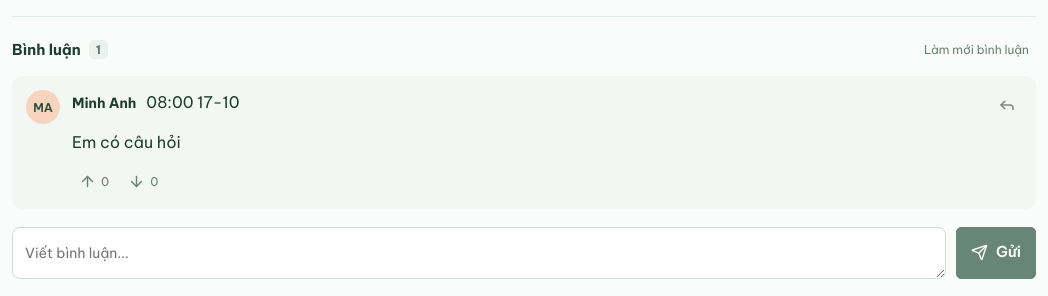
does not overwrite a new vote with an older refresh response
Expected: the text "Em có câu hỏi" is shown, [72,132,181,152]
Click the button "Làm mới bình luận" at (976, 50), box [917,37,1036,62]
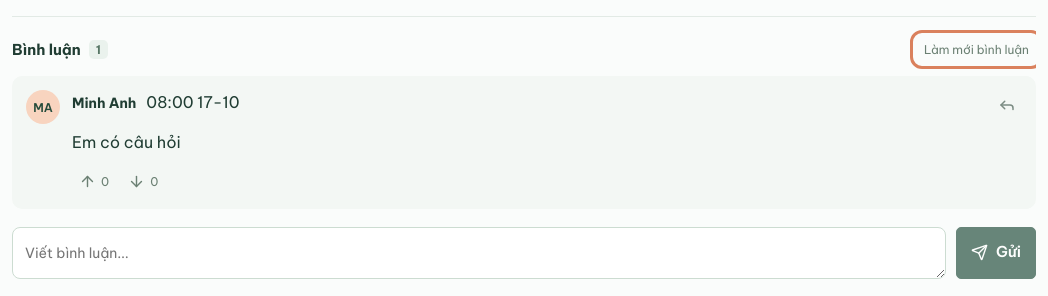
Click the button named "Upvote bình luận của Minh Anh" at (94, 181), box [72,168,116,195]
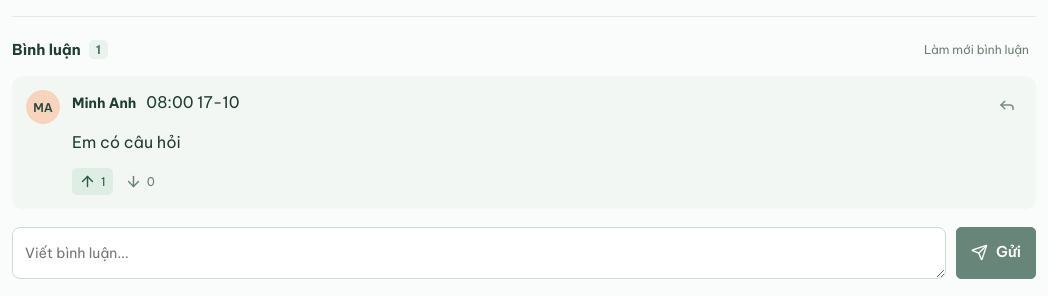
Result: the text "1" below "Em có câu hỏi" is shown at [101,174,106,189]
